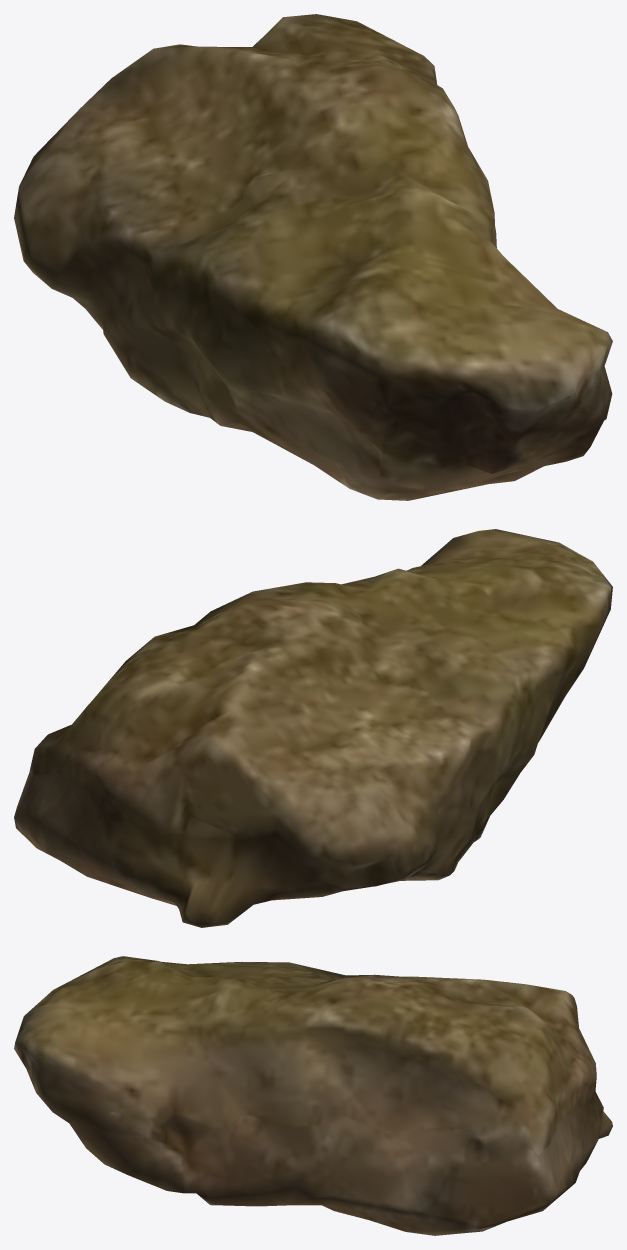
The model's file is moss_rock_4.glb.
3 renders of one model, top to bottom at view 1: azimuth 30°, elevation 25°; view 2: azimuth 150°, elevation 25°; view 3: azimuth 270°, elevation 25°, orthographic. The views are drawn at different scales.
Visible parts, largest first — view 1: rock_moss_set_01_rock05; view 2: rock_moss_set_01_rock05; view 3: rock_moss_set_01_rock05.
Part boxes in pixels (bbox=[...]): rock_moss_set_01_rock05: bbox=[14, 14, 612, 500]; rock_moss_set_01_rock05: bbox=[14, 529, 612, 927]; rock_moss_set_01_rock05: bbox=[14, 956, 612, 1235].
Bounding box in the file's own units: 1.81 × 1.2 × 3.
1 material, 1 textured.
